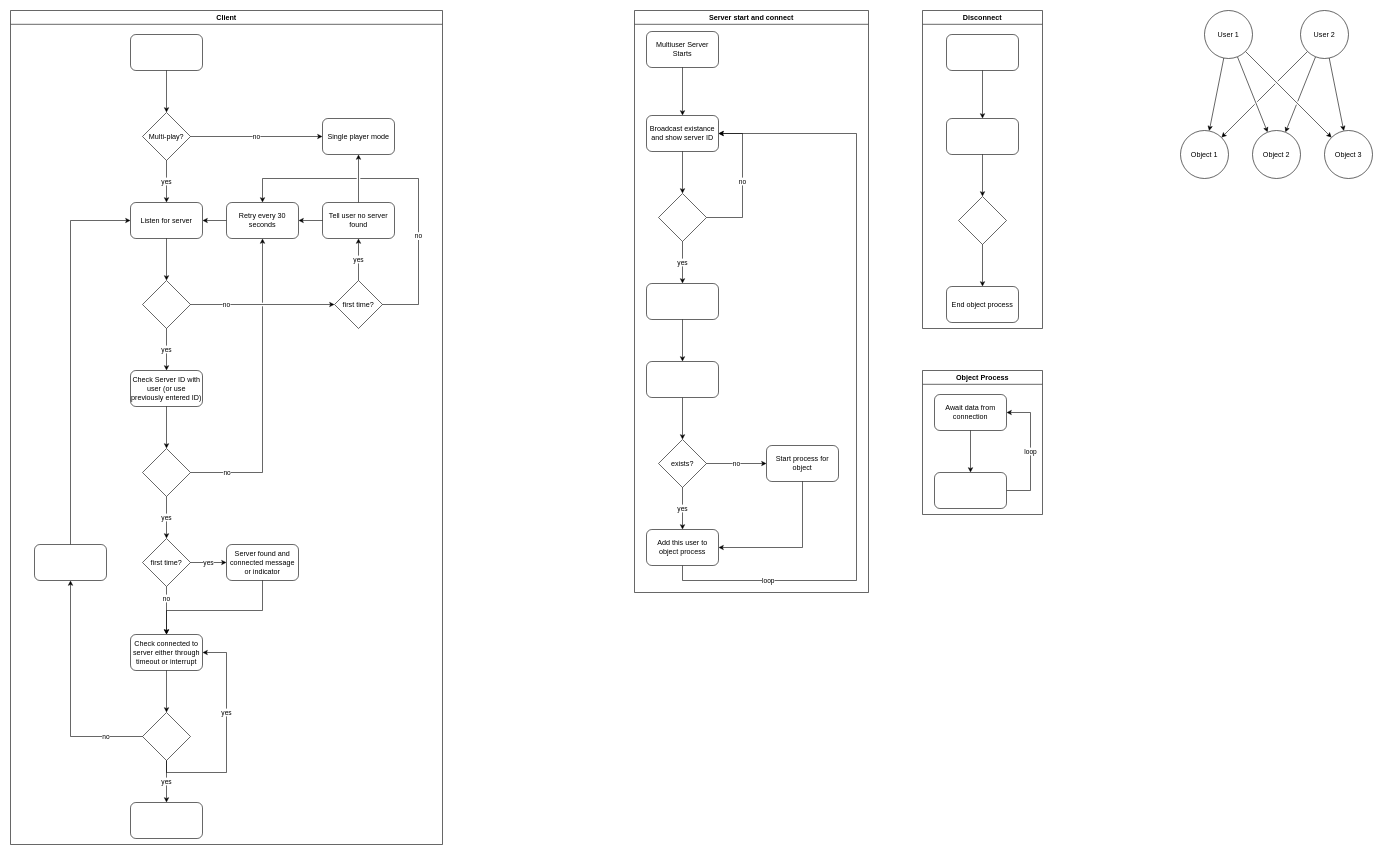
The diagram is 1383 pixels wide and 855 high, and some of its shapes have lost their labels. Here are the shapes that lost their labels. From the top down, the box of each, then its label:
(130, 34, 202, 70): VR App Starts
(946, 34, 1018, 70): Client disconnect
(946, 118, 1018, 154): Remove client from object process
(658, 193, 706, 242): Client connect?
(958, 196, 1006, 244): no clients left?
(142, 280, 190, 328): found?
(646, 283, 718, 320): Start process to manage connection
(646, 361, 718, 398): Object notification from client
(142, 448, 190, 496): Correct Server?
(934, 472, 1006, 508): Broadcast data to all clients
(34, 544, 106, 580): Server lost message or indicator
(142, 712, 190, 760): connected?
(130, 802, 202, 838): Establish link to server
